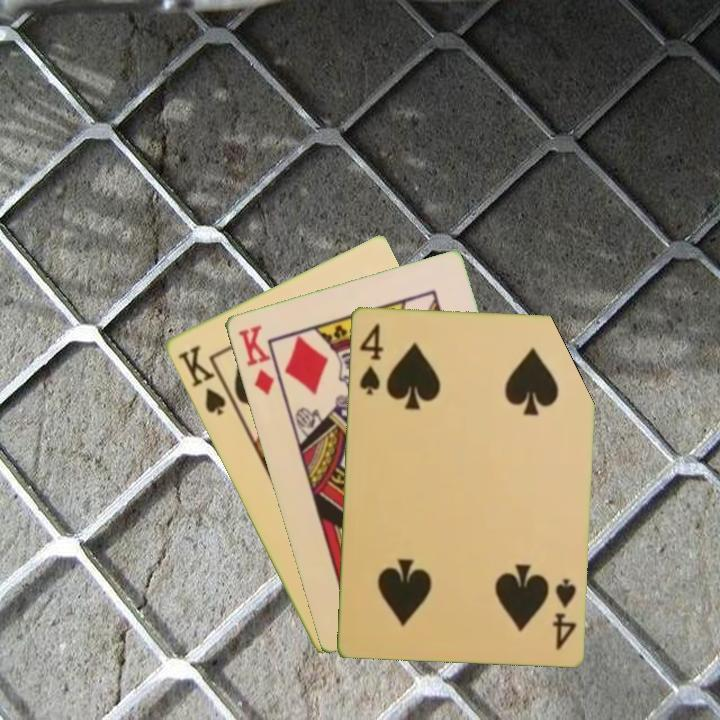4s: (548, 574, 579, 653), (355, 320, 386, 398)
Kd: (234, 321, 277, 398)
Ks: (174, 341, 236, 418)
